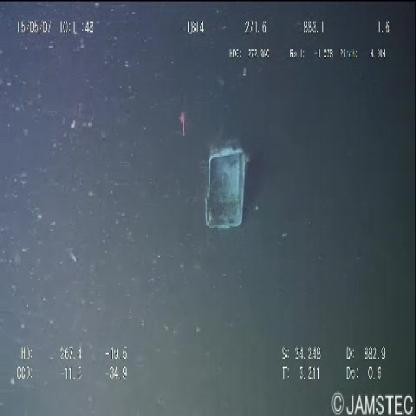Rác: (197, 130, 255, 244)
